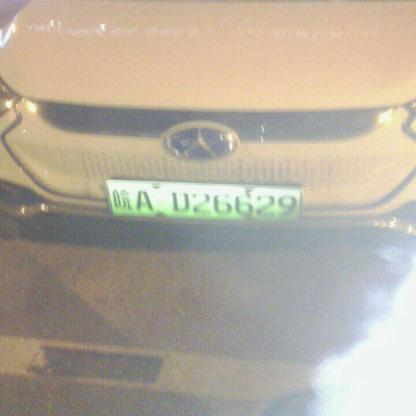lp: (106, 180, 300, 220)
